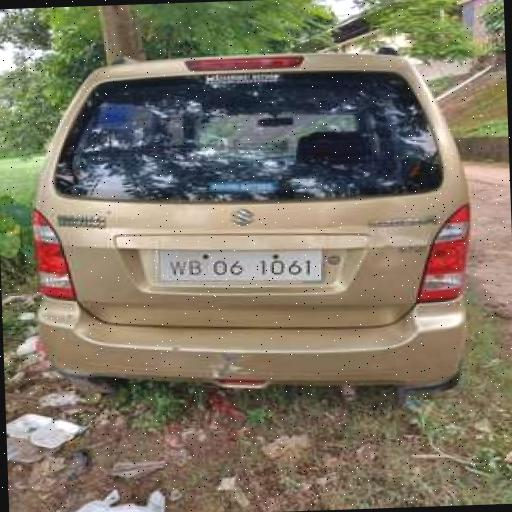license_plate`: (156, 241, 318, 282)
